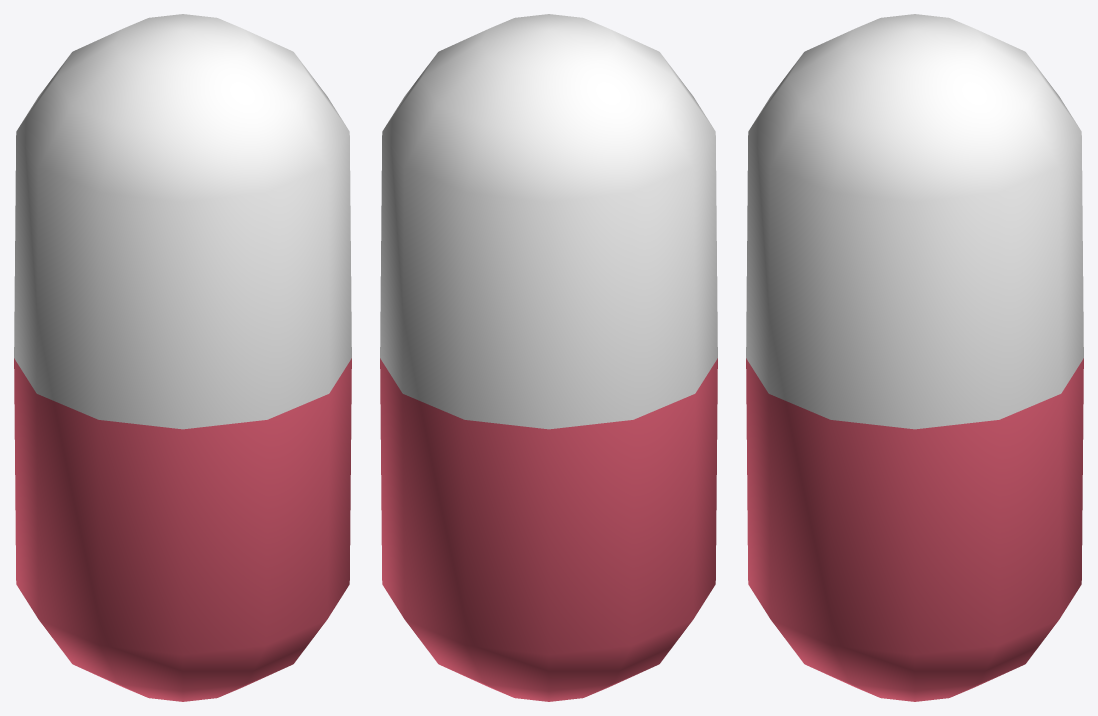
The model's file is jouzai1.fbx.
The picture shows the model from 3 angles, left to right: view 1: azimuth 30°, elevation 25°; view 2: azimuth 150°, elevation 25°; view 3: azimuth 270°, elevation 25°; orthographic projection.
Visible parts, largest first — view 1: jouzai1; view 2: jouzai1; view 3: jouzai1.
Part boxes in pixels (x1=…): jouzai1: x1=14, y1=14, x2=351, y2=701; jouzai1: x1=380, y1=14, x2=717, y2=701; jouzai1: x1=746, y1=14, x2=1083, y2=701.
Size of the model in its own units: 1.87 by 4 by 1.87.
